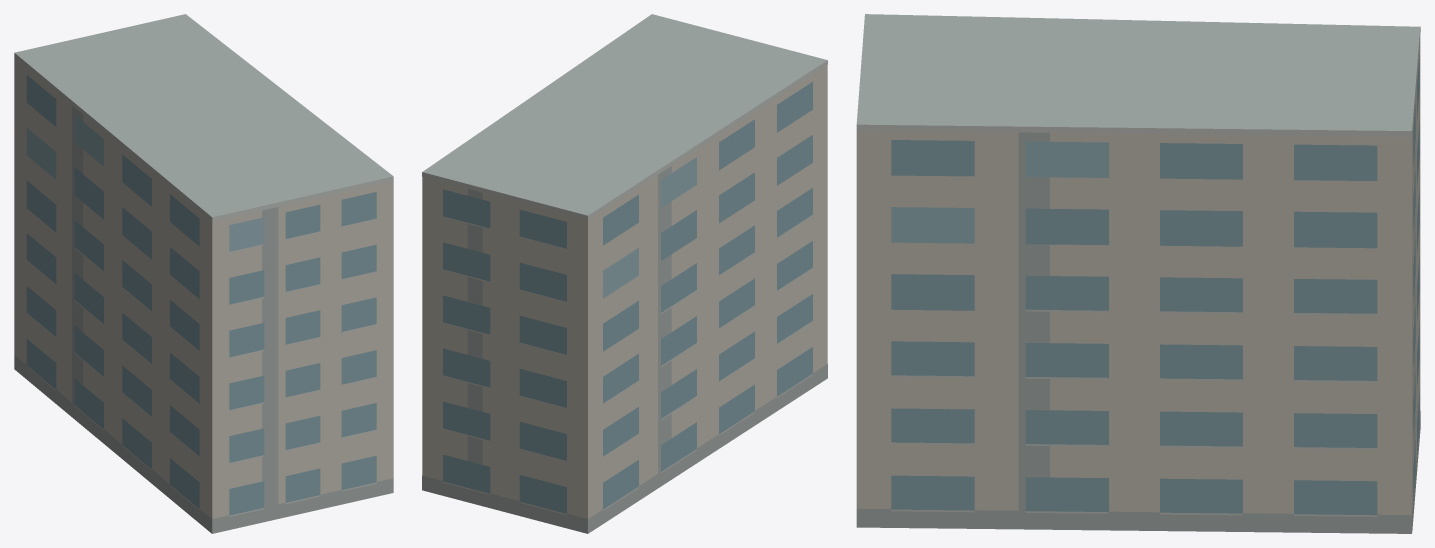
Rendered from survey-upis-32565633.glb.
3 views of the same model, side by side, from view 1: azimuth 30°, elevation 25°; view 2: azimuth 150°, elevation 25°; view 3: azimuth 270°, elevation 25° (orthographic). The views are drawn at different scales.
Parts seen in each view (by area): view 1: survey-upis-32565633.tmp; view 2: survey-upis-32565633.tmp; view 3: survey-upis-32565633.tmp.
Part boxes in pixels (<box>): survey-upis-32565633.tmp: <box>14,14,393,533</box>; survey-upis-32565633.tmp: <box>422,14,827,533</box>; survey-upis-32565633.tmp: <box>856,14,1420,533</box>.
Bounding box in the file's own units: 10.54 × 16.9 × 21.45.
